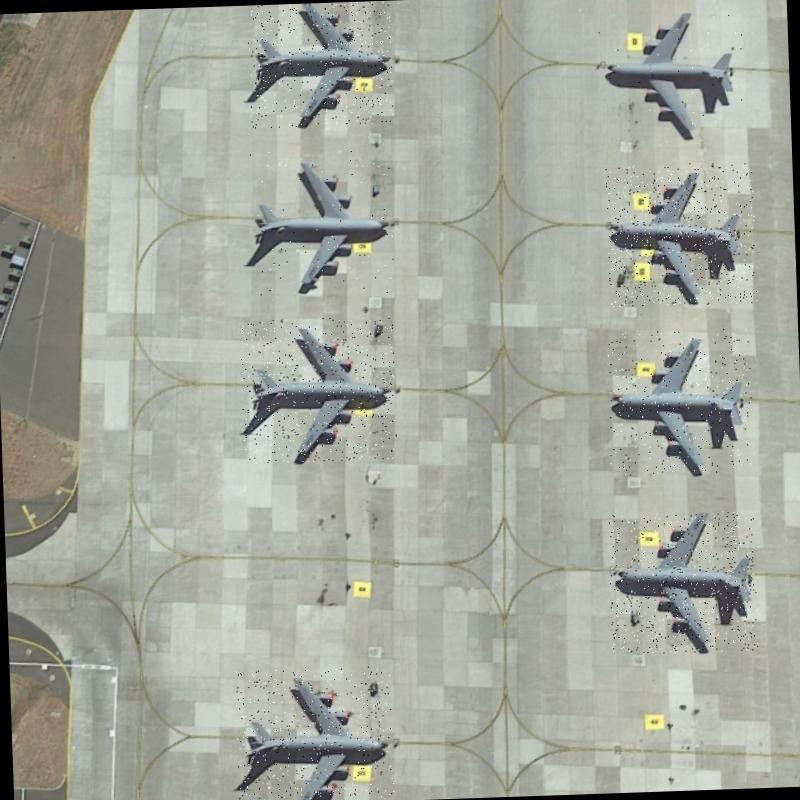A14: (239, 316, 397, 464), (605, 160, 757, 308), (606, 327, 754, 476), (248, 147, 394, 297), (607, 510, 758, 655), (234, 665, 394, 800), (596, 5, 746, 145), (246, 0, 393, 128)
